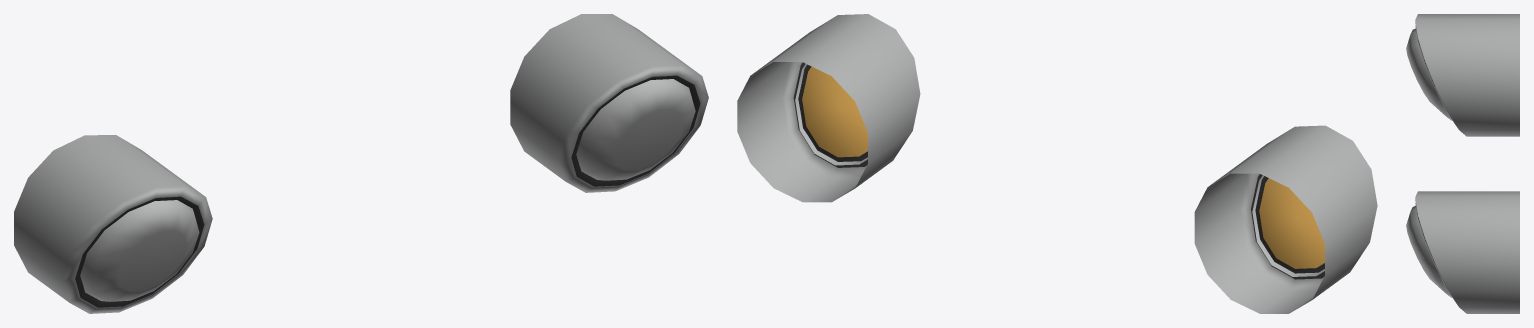
Rendered from Car_11_Headlight_Simple.fbx.
3 views of the same model, side by side, from view 1: azimuth 30°, elevation 25°; view 2: azimuth 150°, elevation 25°; view 3: azimuth 270°, elevation 25° (orthographic). The views are drawn at different scales.
Visible parts, largest first — view 1: Car_11_Headlight_Simple; view 2: Car_11_Headlight_Simple; view 3: Car_11_Headlight_Simple.
Part boxes in pixels (x1,y1,x2,y2): Car_11_Headlight_Simple: (14, 14, 708, 313); Car_11_Headlight_Simple: (737, 14, 1377, 313); Car_11_Headlight_Simple: (1406, 14, 1519, 313).
Bounding box in the file's own units: 120 × 25.34 × 27.35.
